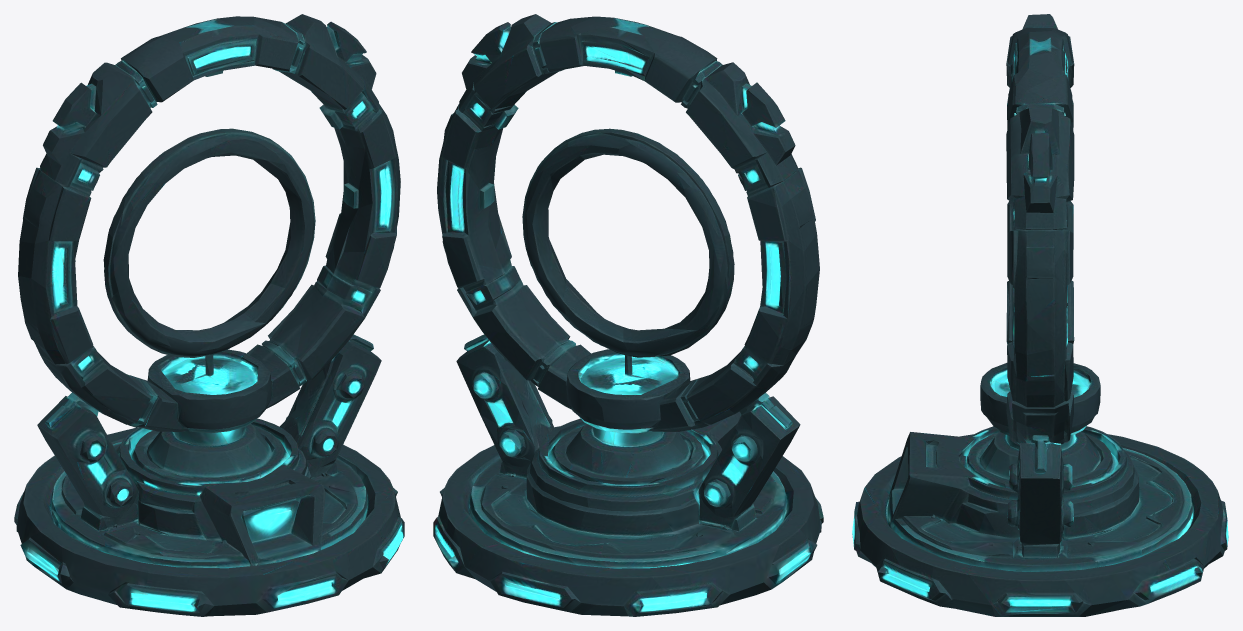
File: st-portal.glb
3 views of the same model, side by side, from view 1: azimuth 30°, elevation 25°; view 2: azimuth 150°, elevation 25°; view 3: azimuth 270°, elevation 25° (orthographic). The views are drawn at different scales.
Size of the model in its own units: 1.43 by 1.9 by 1.3.
Materials: 1 (1 with a texture image).
